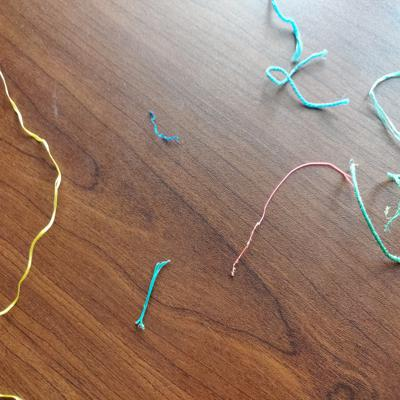thread: (1, 67, 66, 320), (226, 156, 354, 281), (264, 49, 353, 113), (350, 159, 400, 266), (366, 69, 400, 152), (136, 257, 172, 335), (269, 1, 303, 66), (145, 106, 184, 144)
